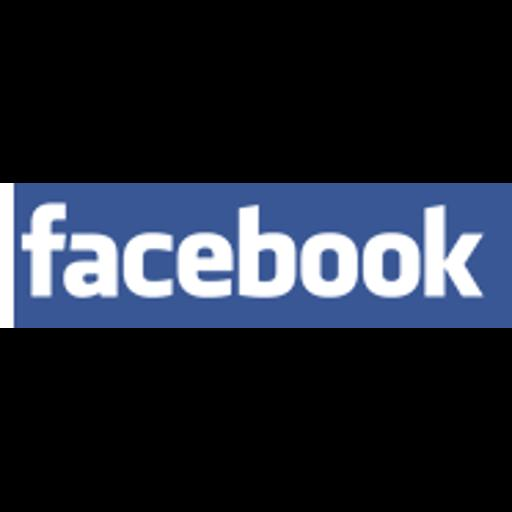Facebook: (0, 183, 512, 328)
